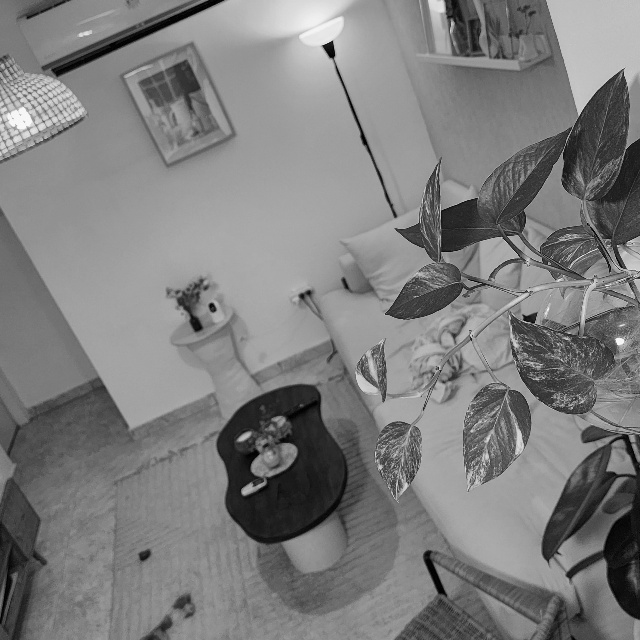glasses: (275, 472, 315, 509)
